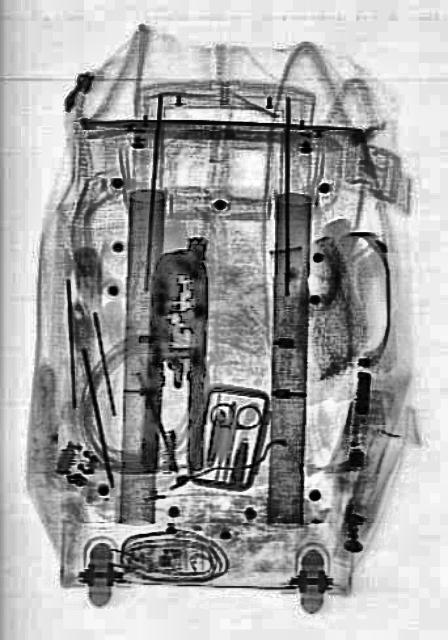Pliers: (140, 245, 210, 471)
Scissors: (202, 394, 262, 486)
